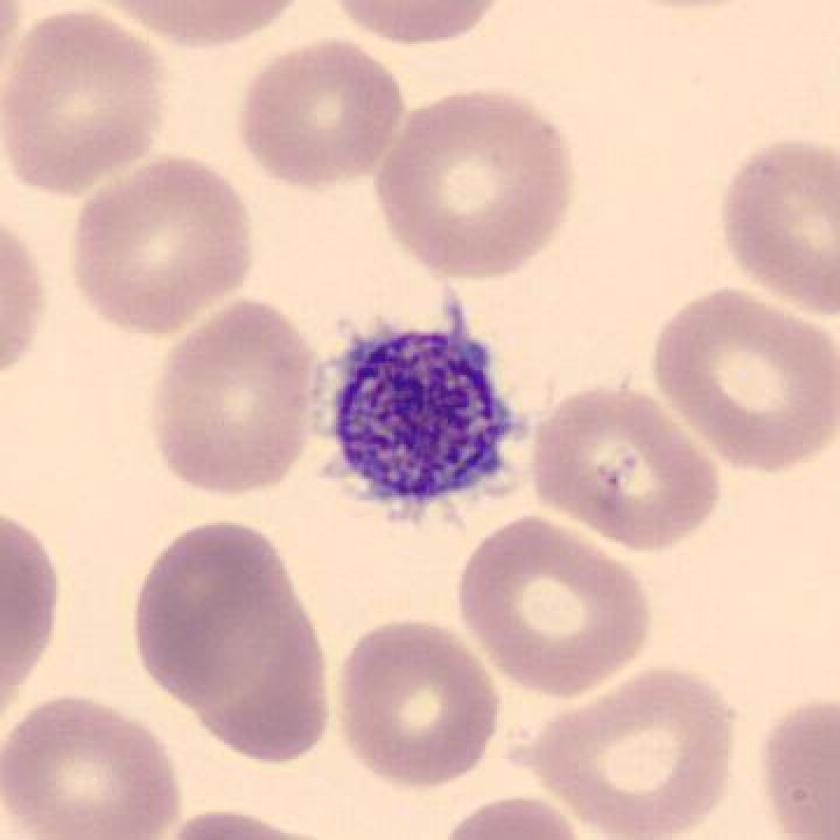platelets: (323, 295, 540, 533)
